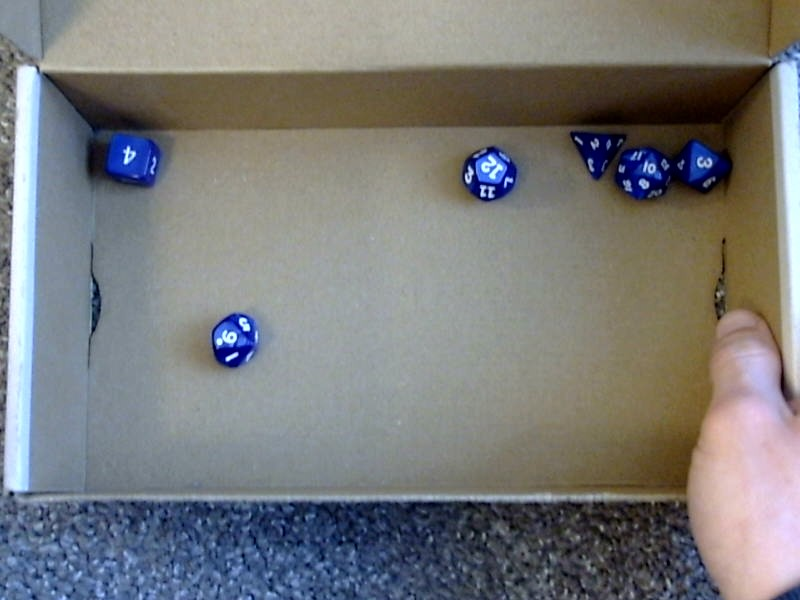d10 9: (207, 306, 262, 371)
d12 12: (454, 139, 524, 206)
d20 10: (619, 139, 668, 207)
d4 2: (566, 125, 626, 181)
d6 4: (99, 128, 163, 190)
d8 3: (668, 137, 735, 198)
